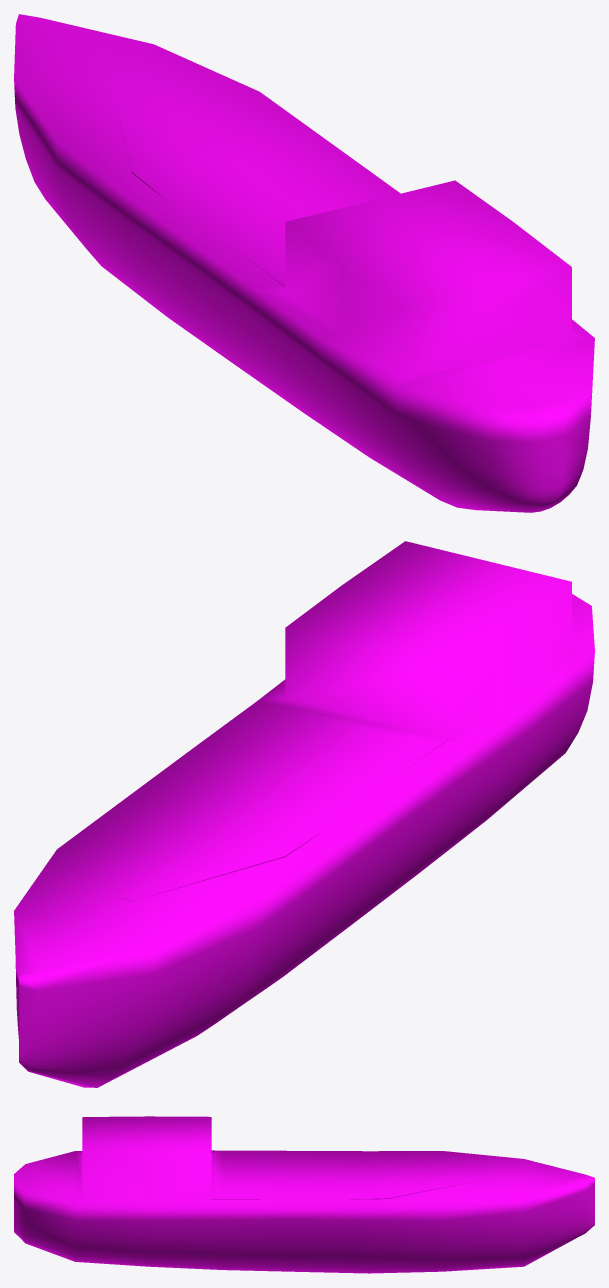
File: boatMagenda.gltf
3 views of the same model, one above another, from view 1: azimuth 30°, elevation 25°; view 2: azimuth 150°, elevation 25°; view 3: azimuth 270°, elevation 25° (orthographic). The views are drawn at different scales.
Parts seen in each view (by area): view 1: Cylinder; view 2: Cylinder; view 3: Cylinder.
Part boxes in pixels (x1,y1,x2,y2): Cylinder: [14, 14, 594, 512]; Cylinder: [14, 541, 594, 1087]; Cylinder: [14, 1116, 594, 1273].
Size of the model in its own units: 3.05 by 3.31 by 13.31.
